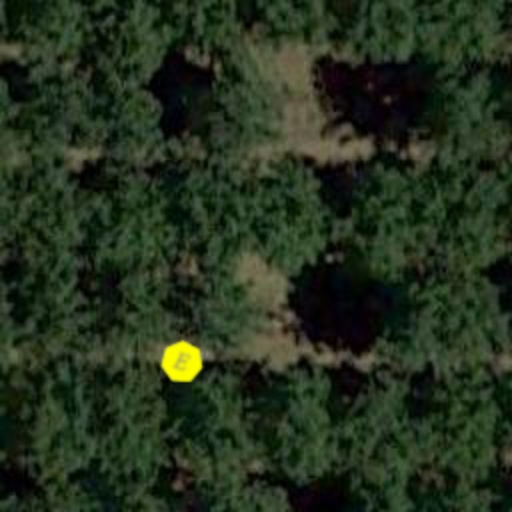heptagon: (154, 334, 210, 390)
